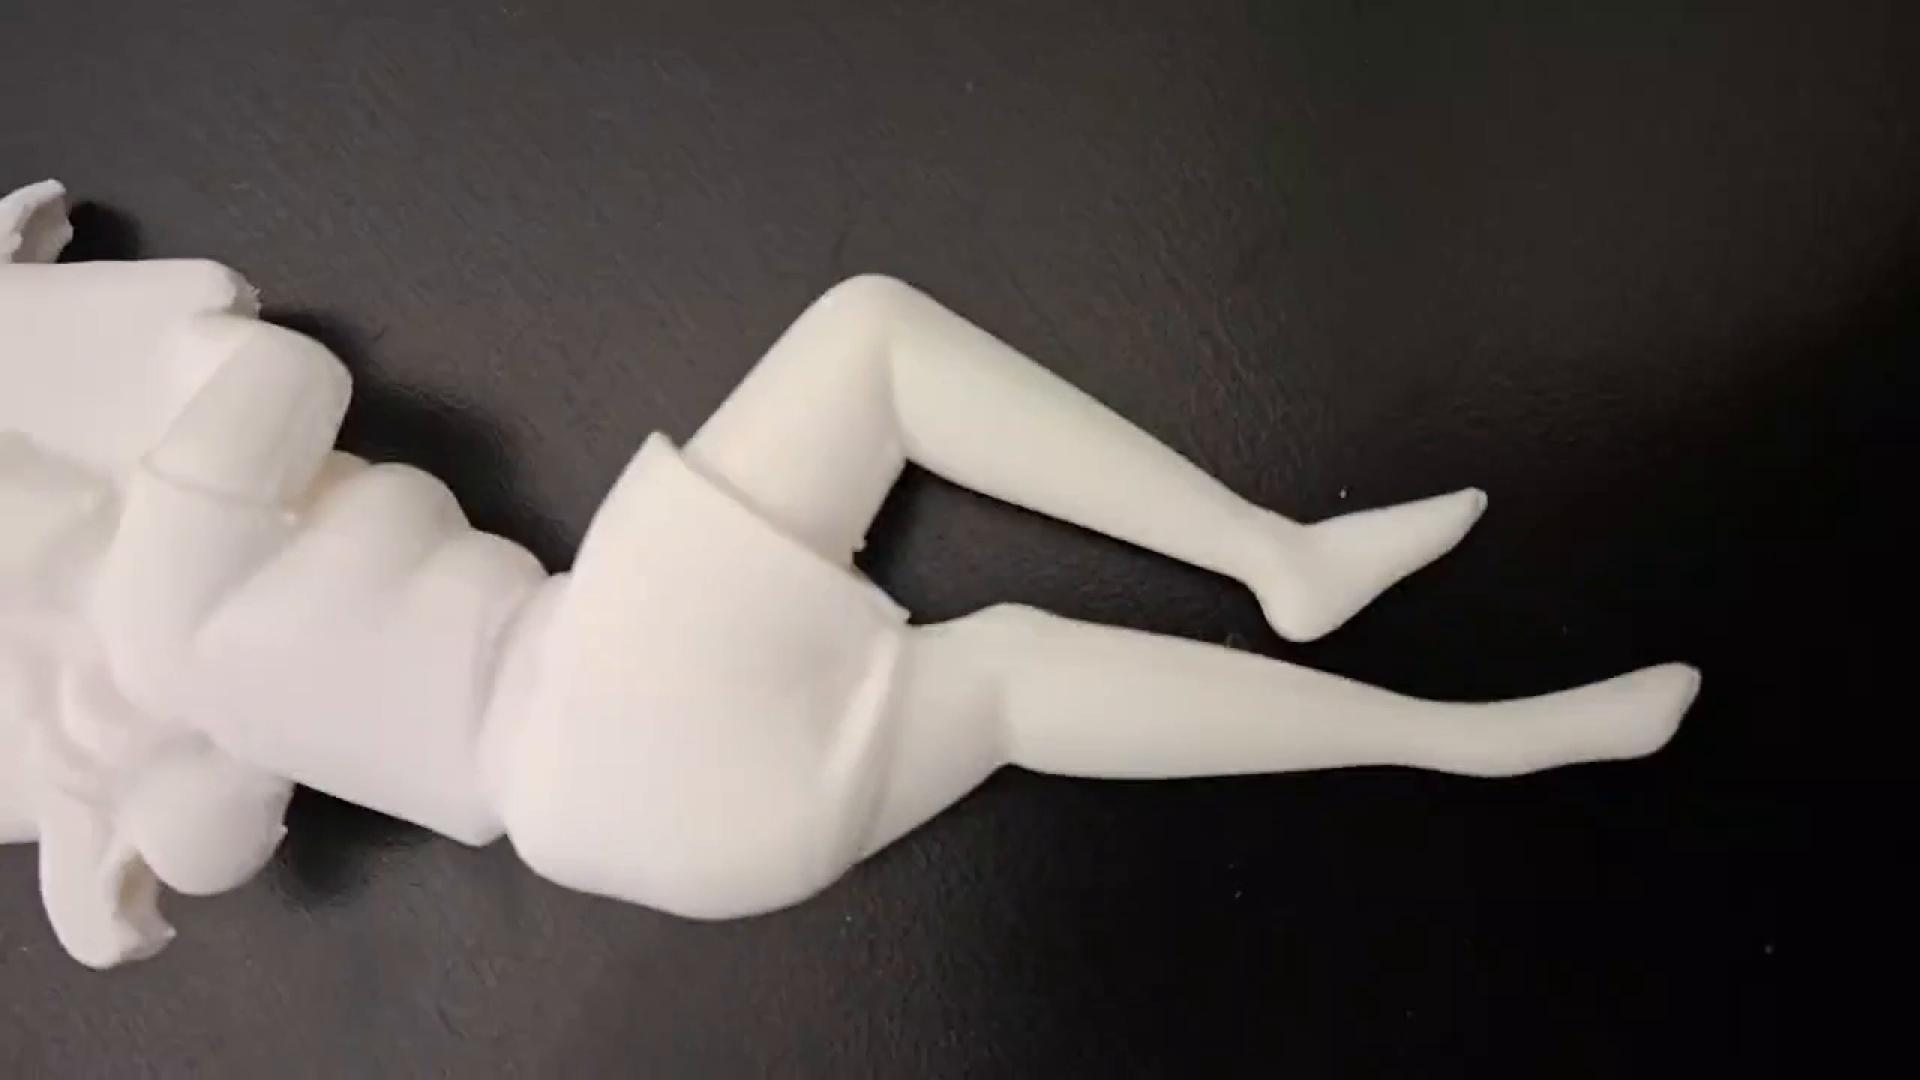Good-style: (0, 148, 1743, 1080)
